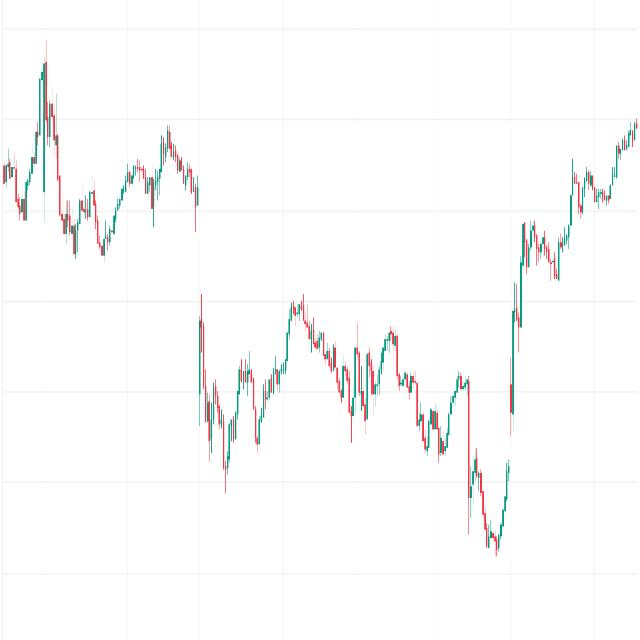Channel-down: (283, 267, 361, 432)
